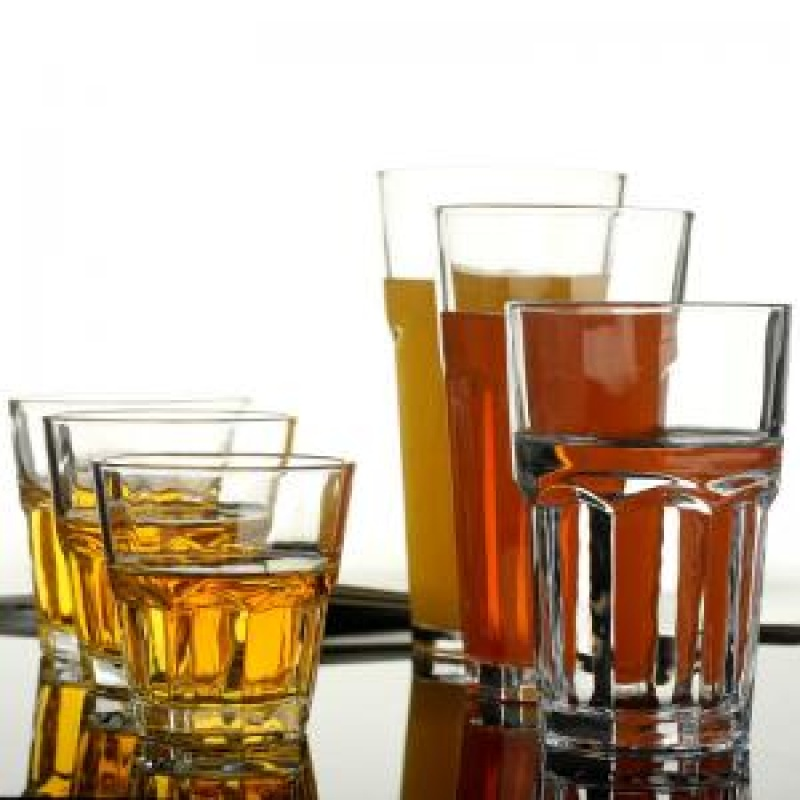whiskey: (505, 300, 782, 748), (105, 453, 361, 733)
